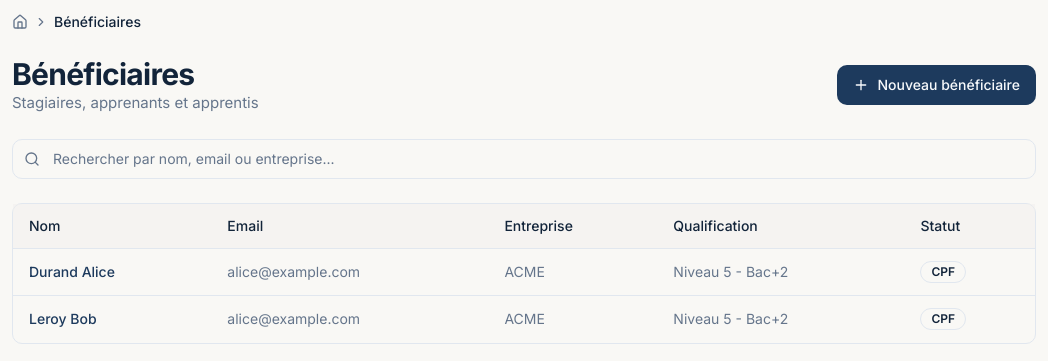
Test case: BeneficiariesListPage › filters beneficiaries by name
Type "leroy" into the field with placeholder "Rechercher par nom, email ou entreprise..." at (524, 158), box left=12, top=138, right=1036, bottom=178
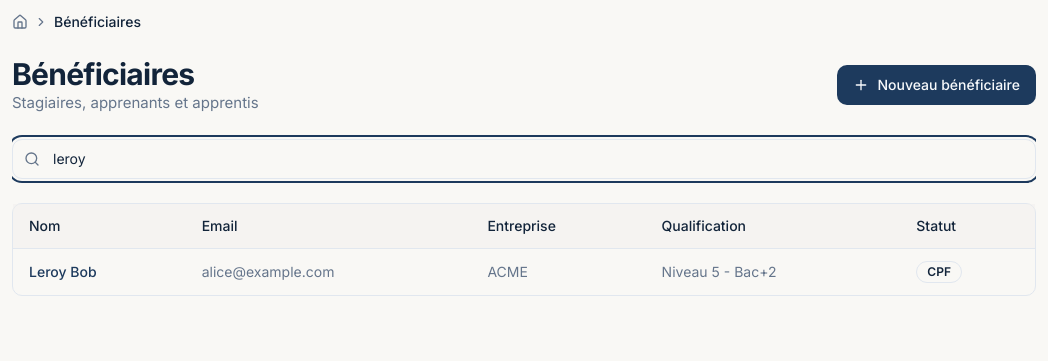
Expected: the link "Leroy Bob" is shown, left=29, top=262, right=97, bottom=280
Result: the link "Durand" is gone
